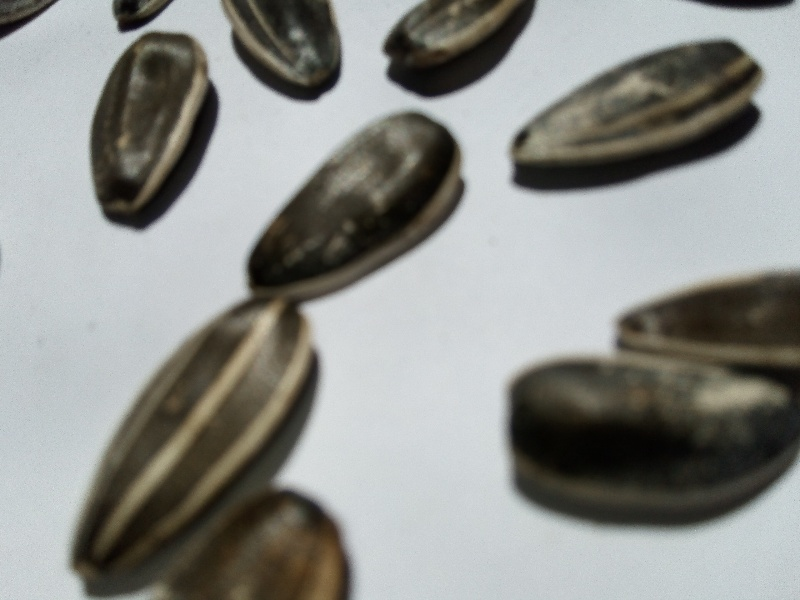w: (76, 28, 225, 229)
